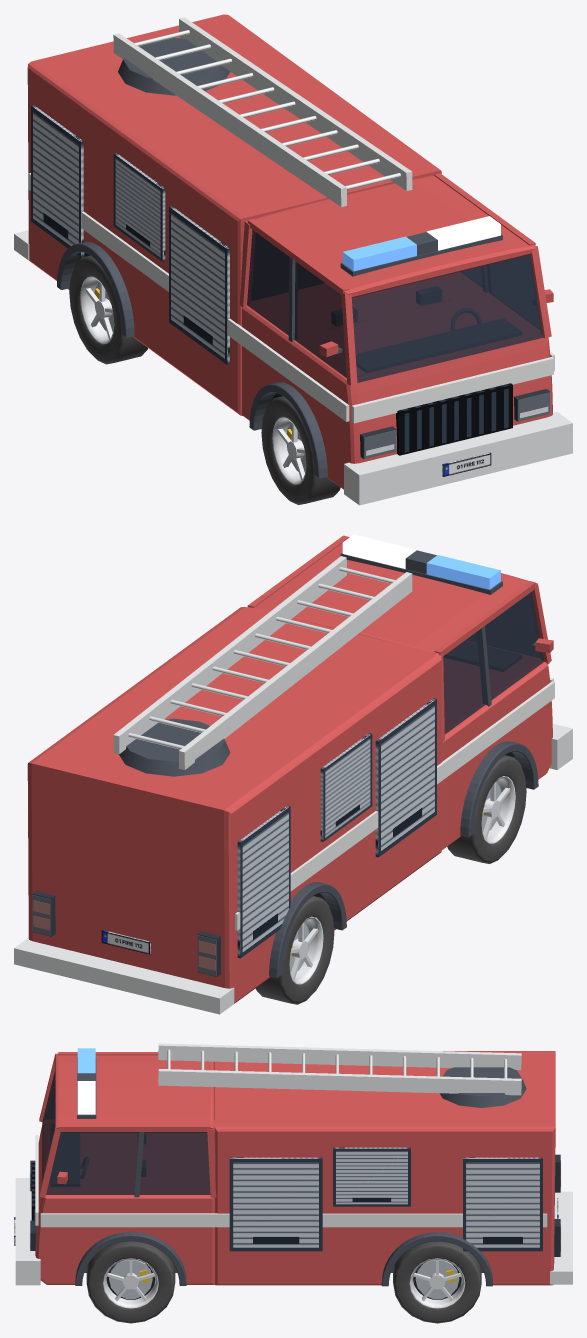
Rendered from car_firetruck.glb.
3 renders of one model, top to bottom at view 1: azimuth 30°, elevation 25°; view 2: azimuth 150°, elevation 25°; view 3: azimuth 270°, elevation 25°, orthographic. The views are drawn at different scales.
Visible parts, largest first — view 1: FireTruckRearBox, chassis, CabinGreenhouse, FireTruckCabLower, FireLadder, SculptedRoof, wheel_FR_spin, wheel_RR_spin, InteriorCabin, siren_R, siren_L, RoofLightbar (+2 smaller); view 2: FireTruckRearBox, chassis, FireLadder, SculptedRoof, CabinGreenhouse, FireTruckCabLower, wheel_FR_spin, wheel_RR_spin, siren_R, siren_L, RoofLightbar, InteriorCabin (+2 smaller); view 3: FireTruckRearBox, chassis, FireTruckCabLower, FireLadder, CabinGreenhouse, SculptedRoof, wheel_FL_spin, wheel_RL_spin, InteriorCabin, siren_L, siren_R, RoofLightbar.
Boxes of the visible parts, x1=… form: FireTruckRearBox: x1=27, y1=14, x2=441, y2=415; chassis: x1=14, y1=105, x2=572, y2=505; CabinGreenhouse: x1=239, y1=173, x2=551, y2=385; FireTruckCabLower: x1=242, y1=272, x2=552, y2=489; FireLadder: x1=113, y1=17, x2=412, y2=206; SculptedRoof: x1=254, y1=175, x2=535, y2=297; wheel_FR_spin: x1=261, y1=396, x2=340, y2=504; wheel_RR_spin: x1=69, y1=255, x2=147, y2=364; InteriorCabin: x1=332, y1=286, x2=521, y2=372; siren_R: x1=342, y1=236, x2=416, y2=271; siren_L: x1=426, y1=216, x2=500, y2=250; RoofLightbar: x1=340, y1=232, x2=502, y2=276; FireTruckRearBox: x1=27, y1=607, x2=441, y2=1003; chassis: x1=14, y1=638, x2=572, y2=1014; FireLadder: x1=113, y1=556, x2=412, y2=776; SculptedRoof: x1=248, y1=543, x2=535, y2=654; CabinGreenhouse: x1=247, y1=535, x2=551, y2=741; FireTruckCabLower: x1=441, y1=642, x2=552, y2=850; wheel_FR_spin: x1=447, y1=755, x2=526, y2=863; wheel_RR_spin: x1=255, y1=896, x2=334, y2=1004; siren_R: x1=426, y1=555, x2=500, y2=589; siren_L: x1=342, y1=534, x2=416, y2=568; RoofLightbar: x1=340, y1=550, x2=502, y2=594; InteriorCabin: x1=444, y1=641, x2=521, y2=671; FireTruckRearBox: x1=214, y1=1051, x2=555, y2=1285; chassis: x1=14, y1=1135, x2=572, y2=1286; FireTruckCabLower: x1=35, y1=1120, x2=214, y2=1284; FireLadder: x1=158, y1=1043, x2=526, y2=1107; CabinGreenhouse: x1=39, y1=1052, x2=216, y2=1197; SculptedRoof: x1=55, y1=1053, x2=213, y2=1132; wheel_FL_spin: x1=86, y1=1241, x2=175, y2=1323; wheel_RL_spin: x1=393, y1=1241, x2=481, y2=1323; InteriorCabin: x1=51, y1=1124, x2=145, y2=1186; siren_L: x1=77, y1=1081, x2=95, y2=1114; siren_R: x1=77, y1=1048, x2=95, y2=1073; RoofLightbar: x1=77, y1=1057, x2=96, y2=1118.
Bounding box in the file's own units: 2.39 × 2.81 × 6.31.
Materials: 20 (3 with a texture image).
